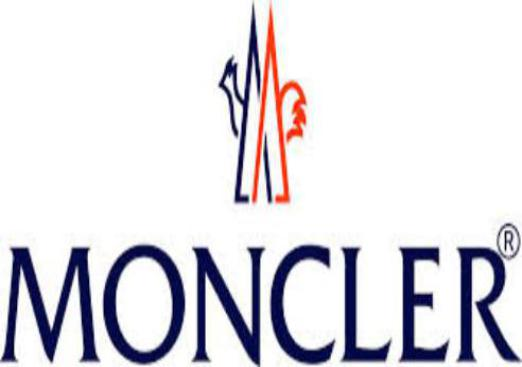MONCLER: (1, 242, 522, 365), (215, 1, 308, 206)
